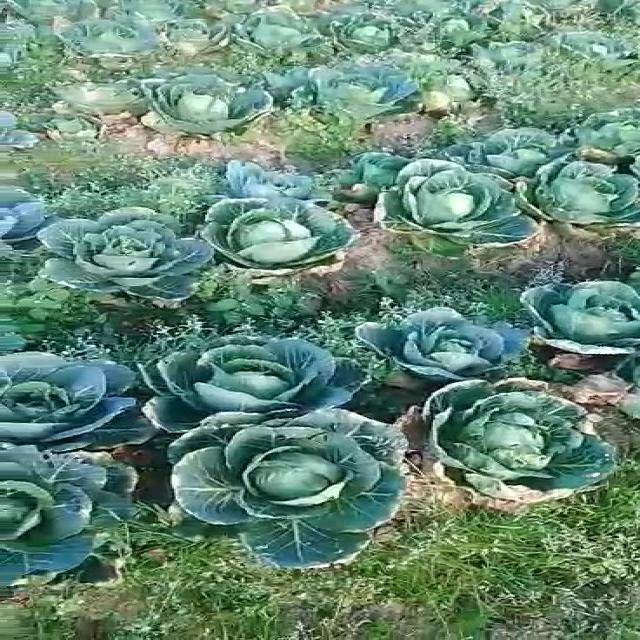cabbage: (164, 416, 410, 552), (411, 382, 627, 495), (146, 341, 366, 419), (0, 447, 118, 572), (0, 351, 149, 447), (44, 217, 192, 295), (362, 307, 526, 376), (210, 202, 354, 266), (518, 281, 640, 355), (401, 169, 507, 236), (292, 70, 422, 124), (535, 161, 640, 227), (129, 79, 260, 130), (457, 127, 551, 172), (324, 151, 410, 189), (578, 111, 640, 163), (220, 160, 302, 199), (0, 191, 41, 242)
